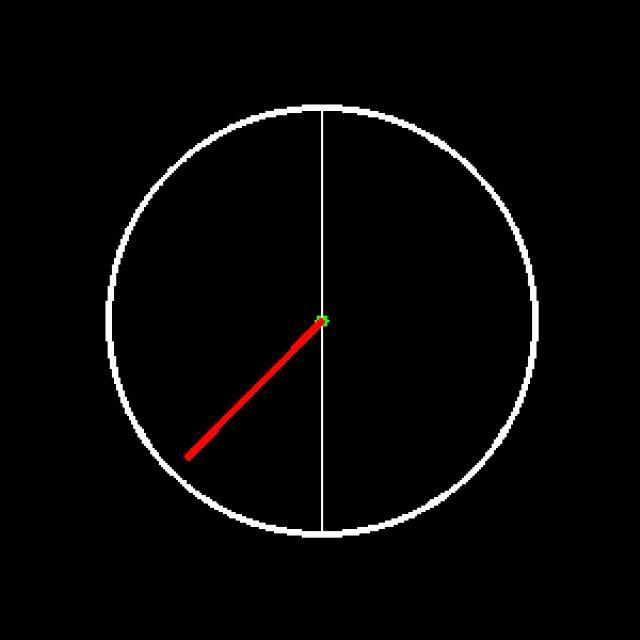Needle_Tip: (163, 435, 216, 472)
Needle_base: (296, 286, 348, 352)
